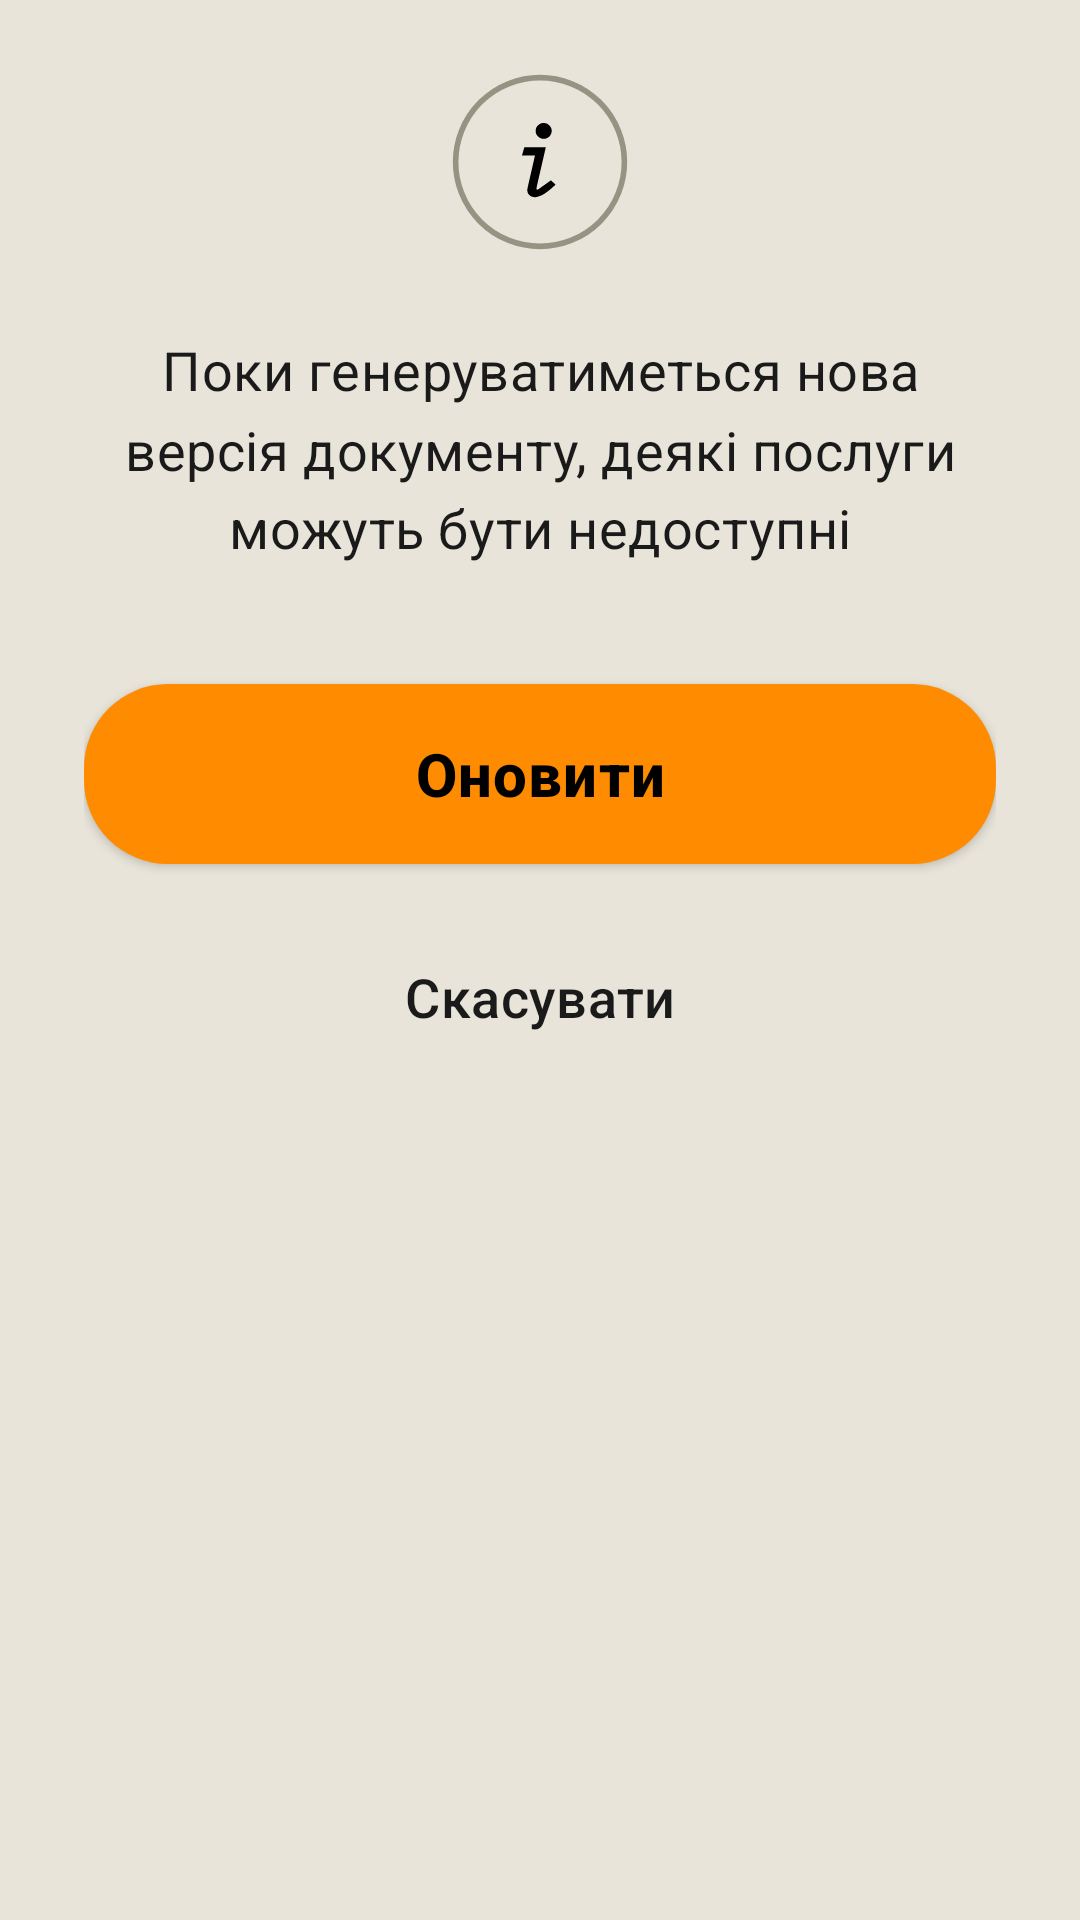

Point at icon controls on the screen. Image size 1080x1920, points as (x=x, y=y).
Info icon: (x=540, y=162)
